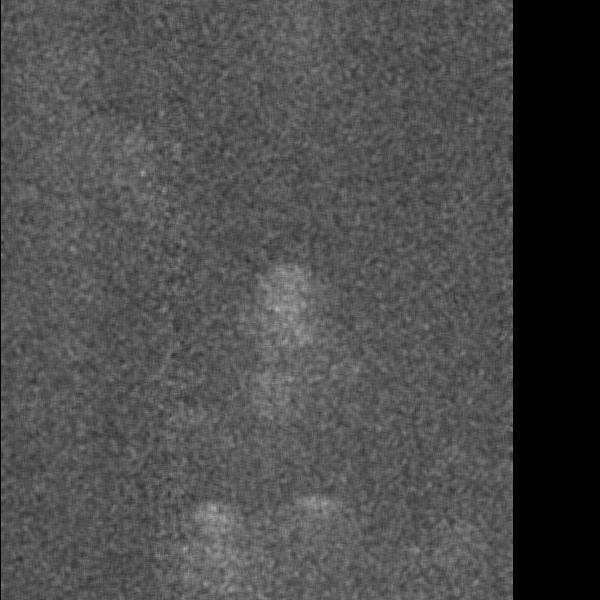spark: (283, 492, 347, 542), (201, 497, 223, 598), (255, 279, 290, 321)
